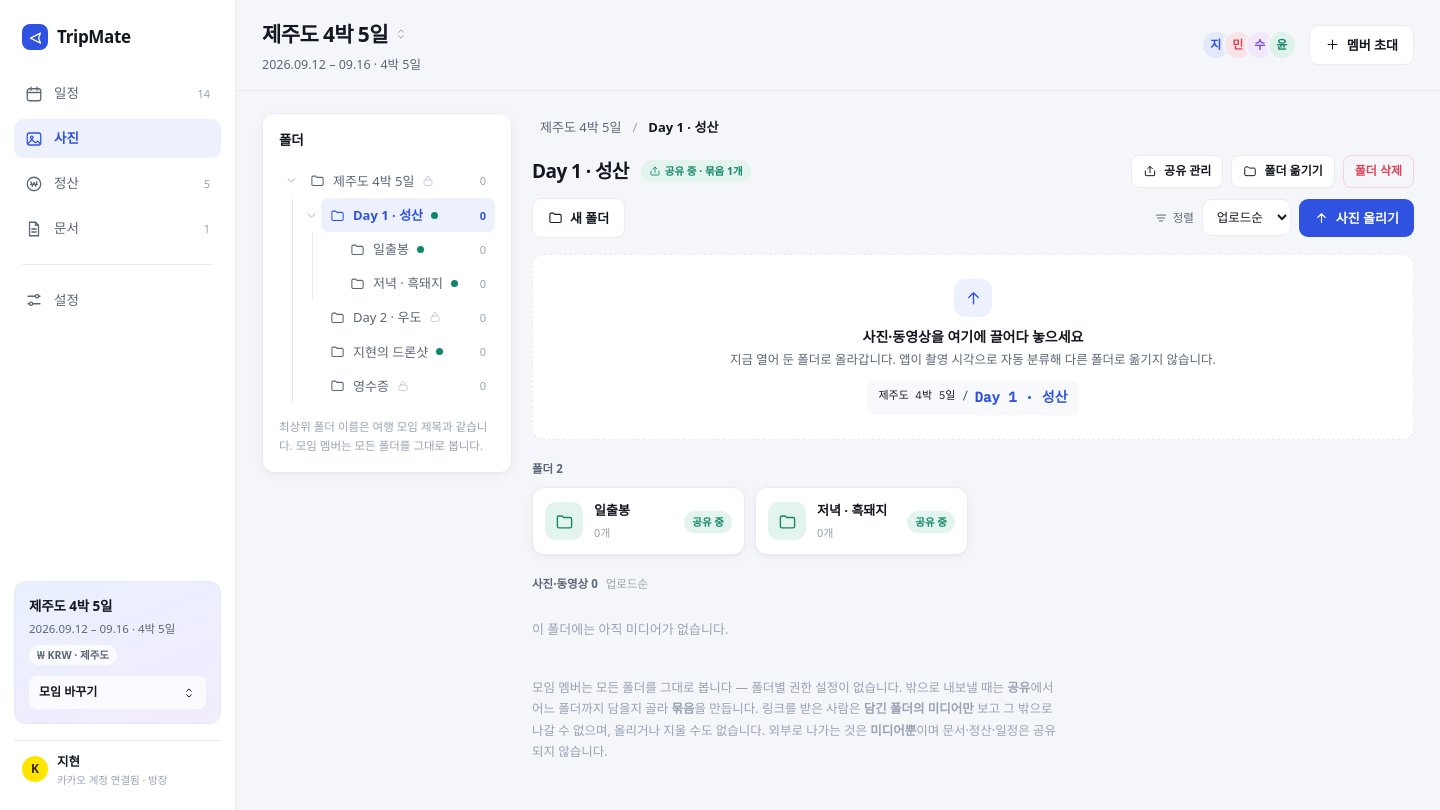
Test: 사진 화면 › 공유 모달은 TripMate 뷰어 링크만 내보낸다 (Drive 링크가 아니다)
This screenshot has width=1440, height=810.
Expected: the heading "폴더" is shown, [279,130,304,151]
What coordinates should you click on to do the following:
click the button "공유 관리"
I would click on:
 (1177, 171)
Its box is [1131,155,1223,188].
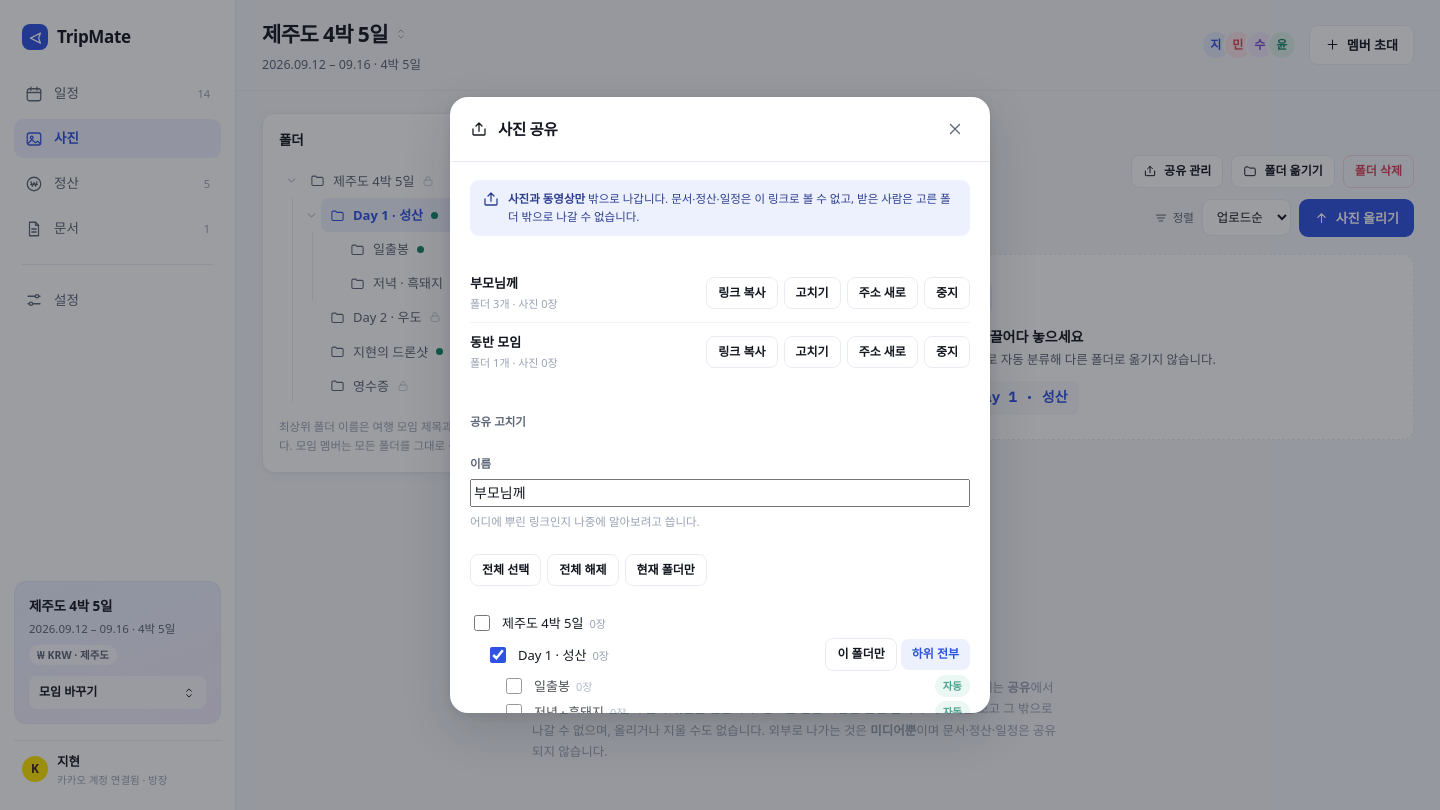
Now the text "부모님께" is shown, box [470,274,518,292]
Now the dialog shows "사진과 동영상만", box [508,191,585,206]
Now the dialog shows "고른 폴더 밖으로 나갈 수 없습니다", box [508,191,951,224]
